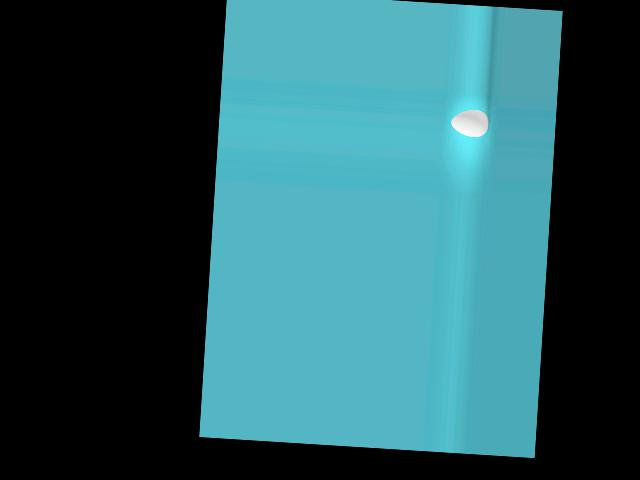egg: (450, 107, 489, 137)
